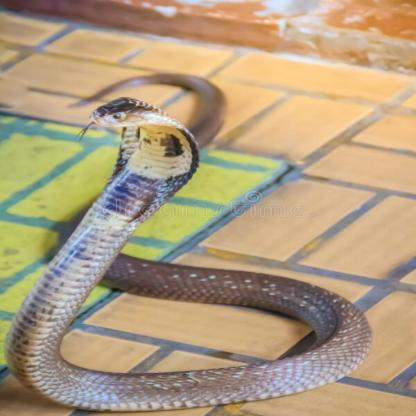Snake: (0, 82, 377, 407)
